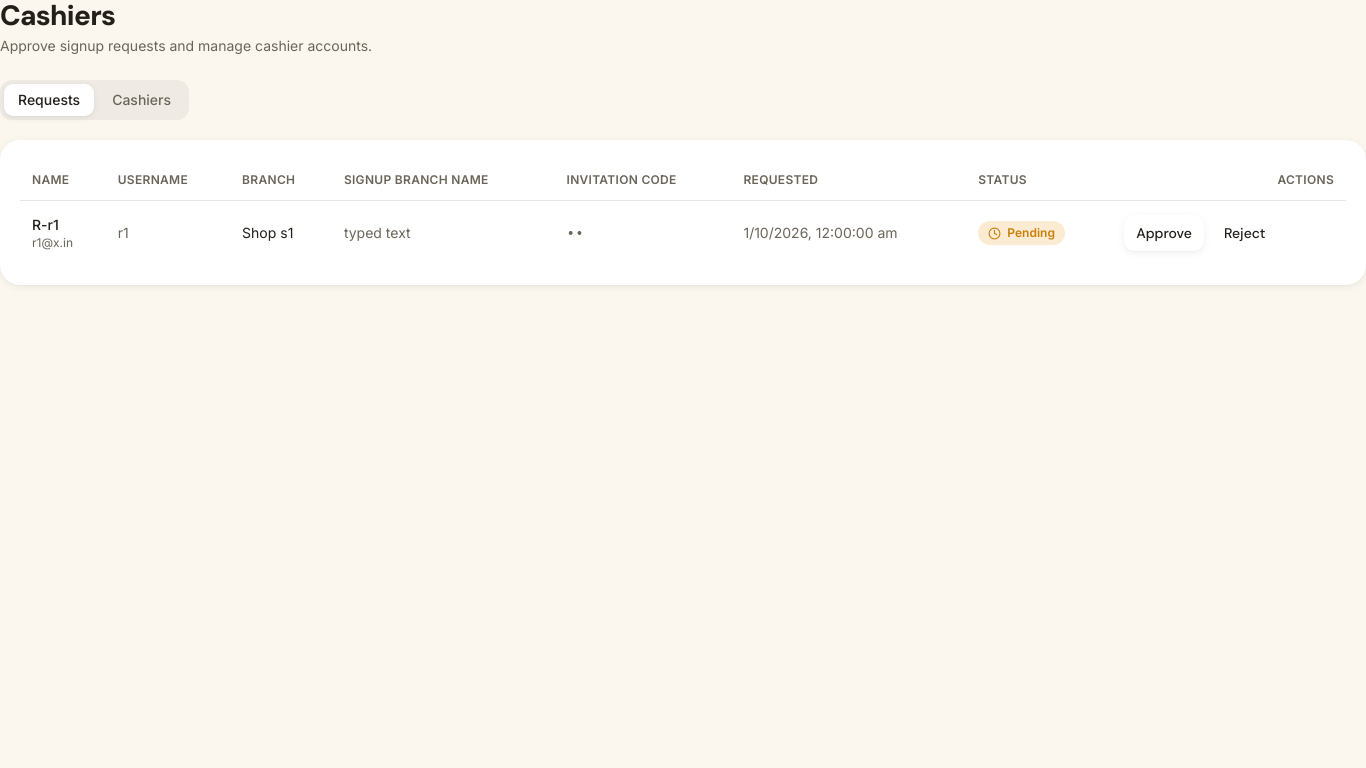
Test: Cashiers page — one cashier per branch › shows the backend's refusal if approval still loses a race (409)
The width and height of the screenshot is (1366, 768).
Later steps or results of the test are not shown.
Click the button "Approve": point(1164, 233) [1124, 215, 1204, 251]
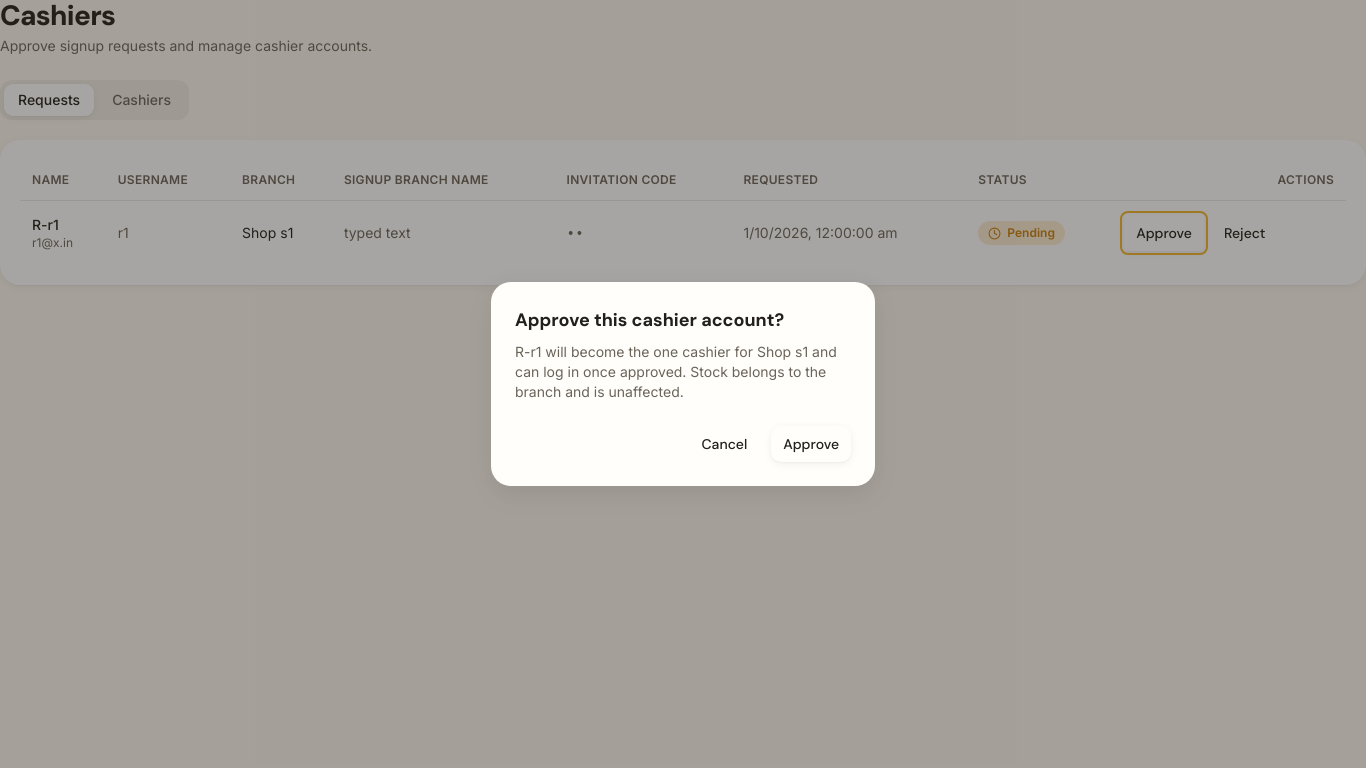
Result: the dialog shows "one cashier for Shop s1" at [515, 343, 837, 400]
